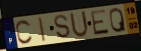C: (15, 19, 34, 45)
E: (90, 8, 111, 37)
I: (37, 16, 47, 44)
Q: (108, 7, 127, 34)
S: (53, 14, 72, 40)
U: (69, 10, 90, 39)
